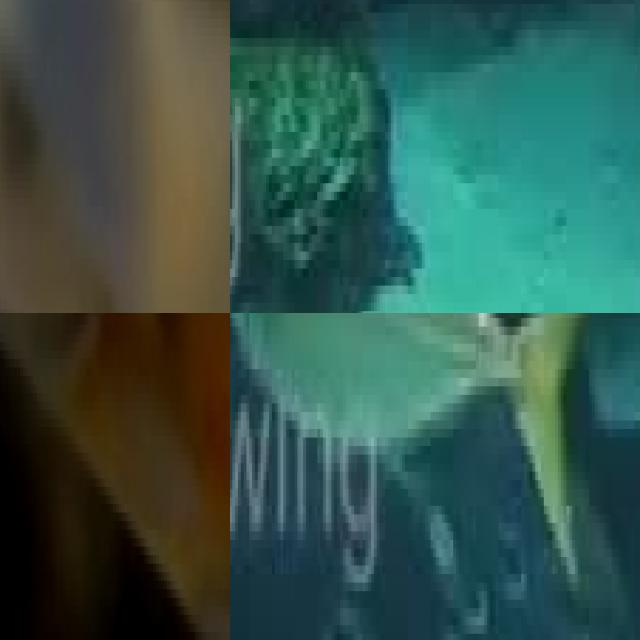fish: (230, 313, 623, 616), (0, 0, 230, 313)
